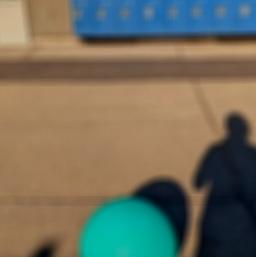algae: (76, 196, 177, 257)
